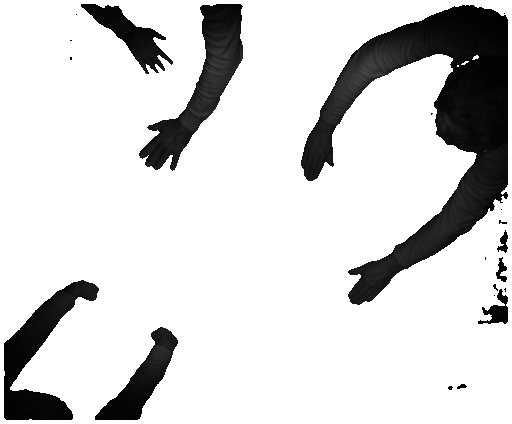fist: (147, 320, 183, 348), (77, 280, 103, 307)
hand: (136, 119, 188, 175), (344, 258, 397, 311), (127, 29, 175, 79), (296, 134, 335, 183)
